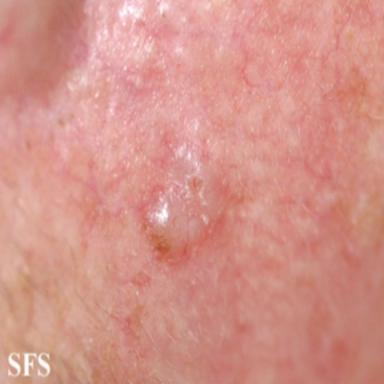basal-cell-carcinoma: (140, 140, 230, 260)
